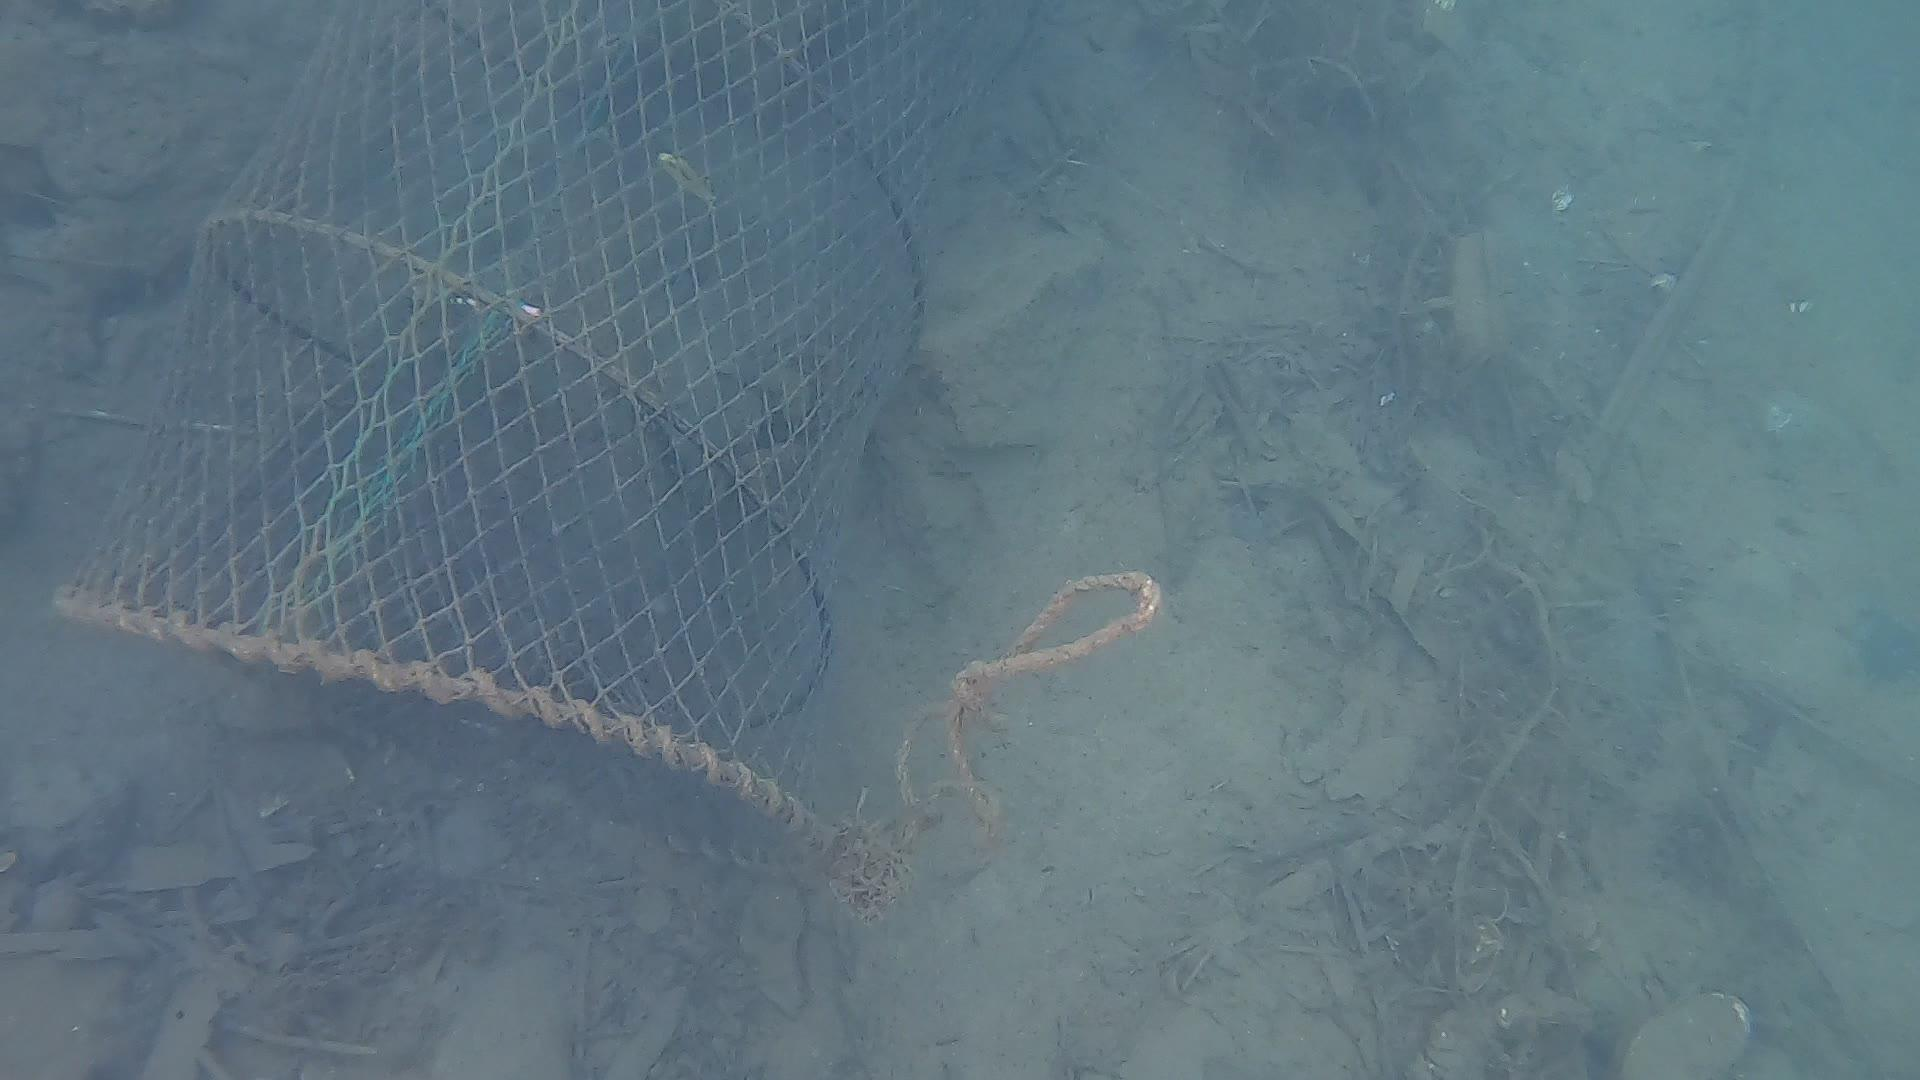bundle of ropes: (861, 554, 1160, 887)
spring fish trap: (47, 0, 1043, 872)
